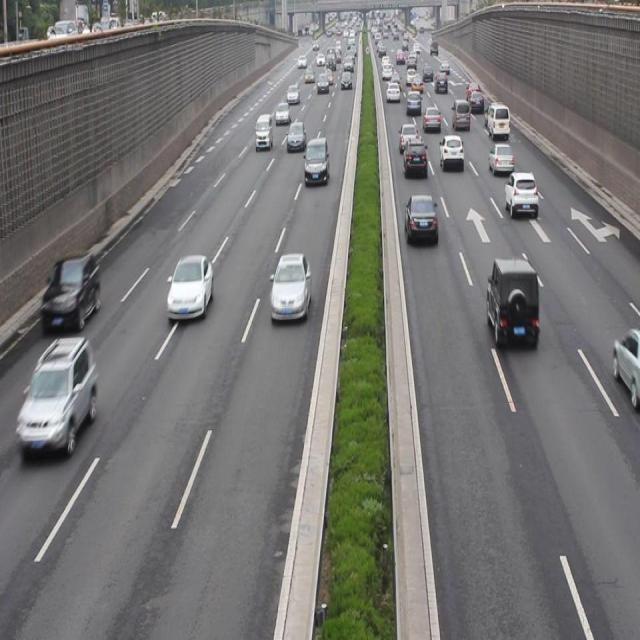car: (17, 338, 96, 454), (40, 252, 101, 334), (486, 256, 540, 348), (168, 253, 212, 322), (270, 252, 310, 322), (404, 192, 436, 245), (504, 171, 536, 217), (402, 138, 427, 176), (439, 133, 463, 169), (488, 143, 512, 175), (398, 121, 419, 153), (451, 98, 470, 131), (286, 119, 305, 150), (423, 105, 440, 131)
truck: (304, 136, 329, 186), (487, 103, 510, 139), (255, 113, 272, 151)
